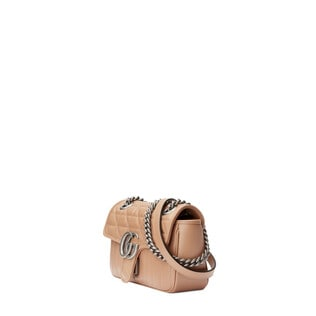Gucci: (100, 194, 219, 296), (116, 228, 140, 263)
